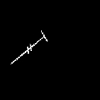treble_crochet: (12, 33, 46, 62)
